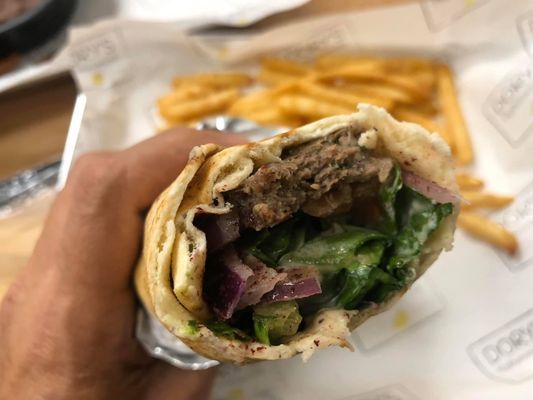soup: (131, 105, 465, 366)
sushi: (0, 0, 80, 63)
